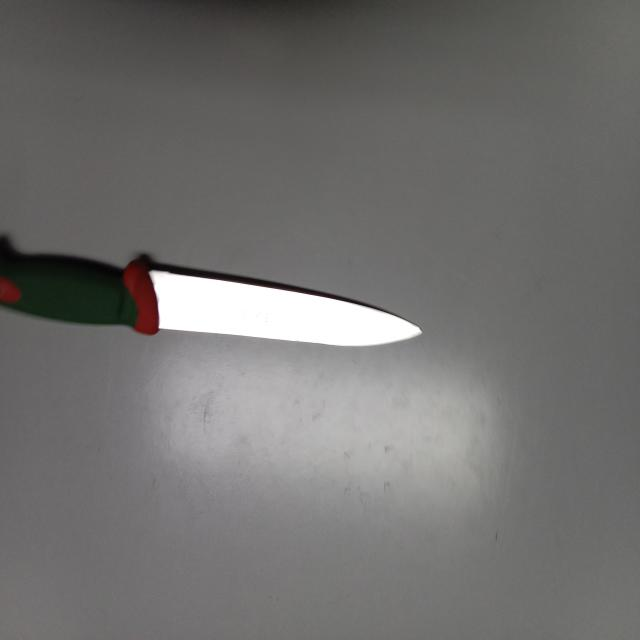Knife: (0, 237, 418, 345)
